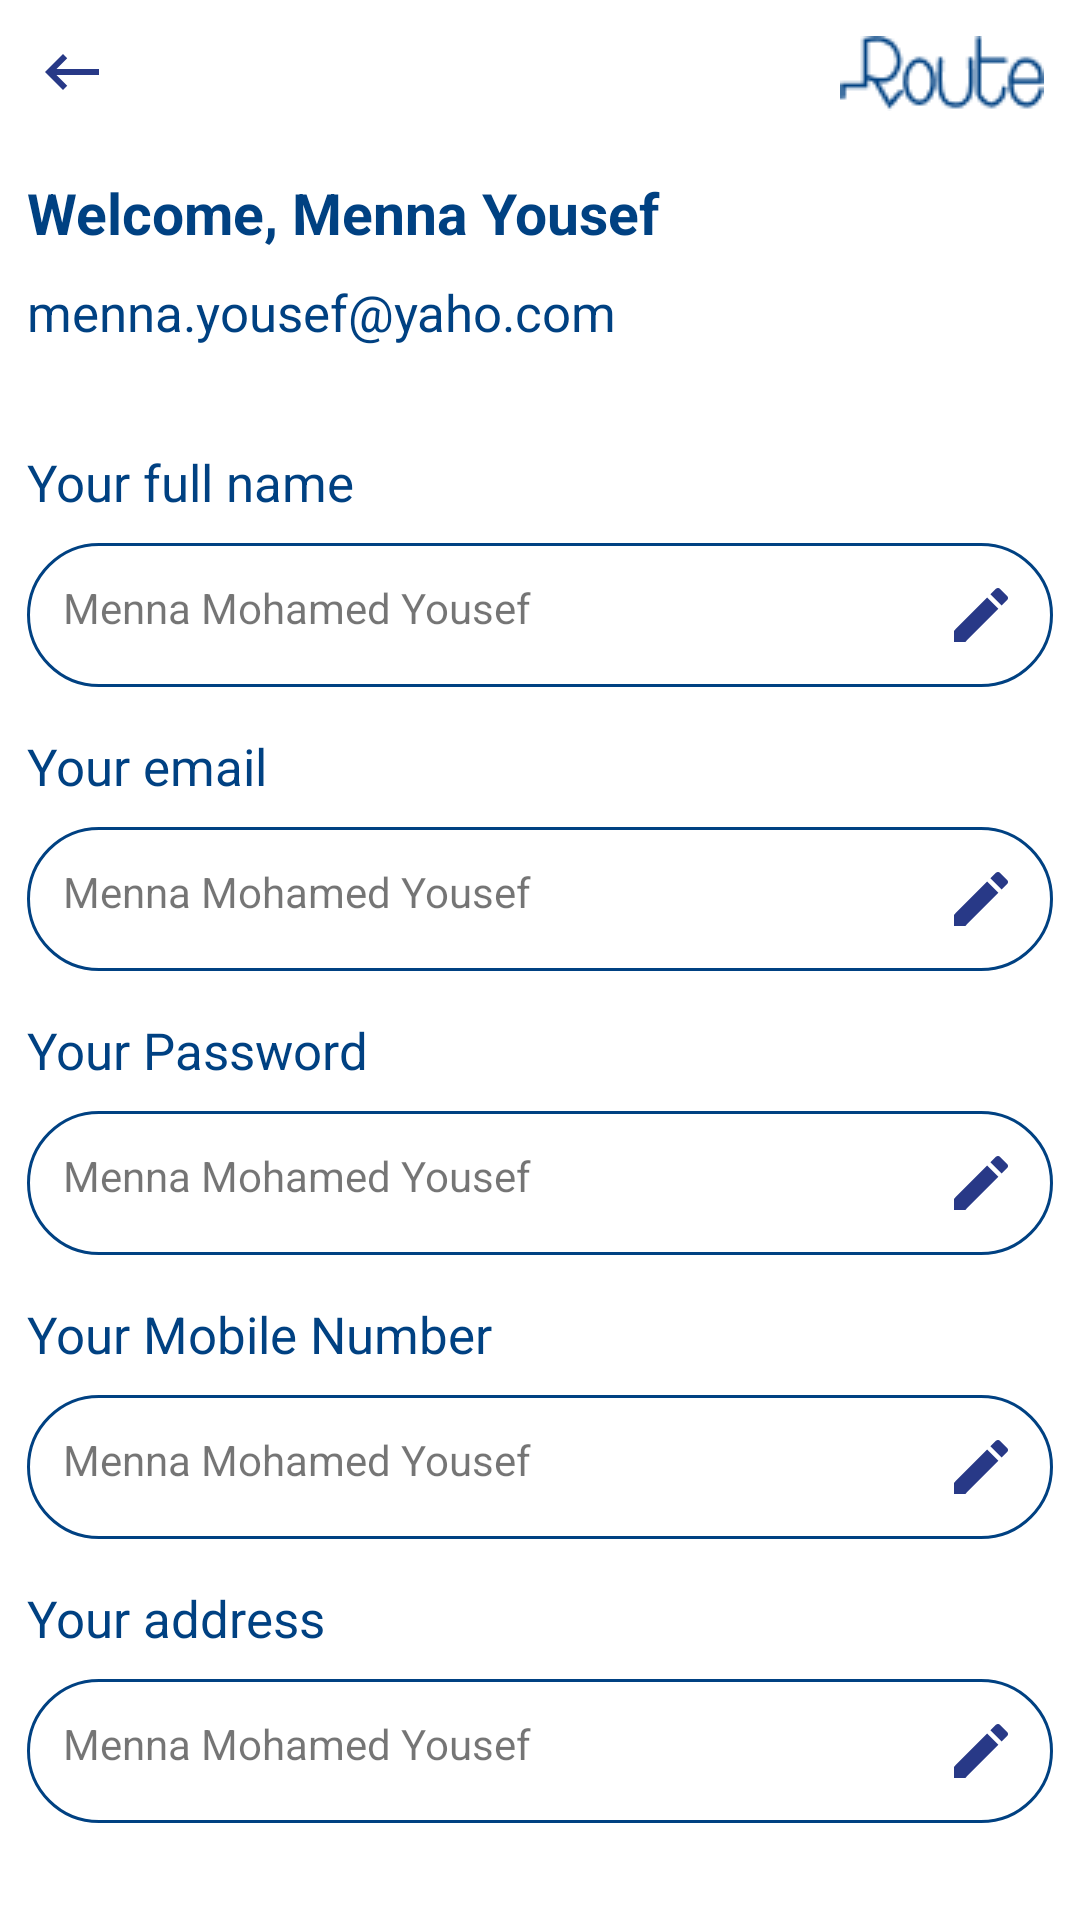

Screen size 1080px×1920px. Icon name, then its box in pixels as (x1, y1, x2, y2):
back: (45, 54, 99, 90)
